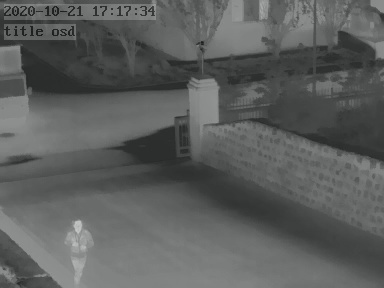person: (66, 218, 91, 286)
